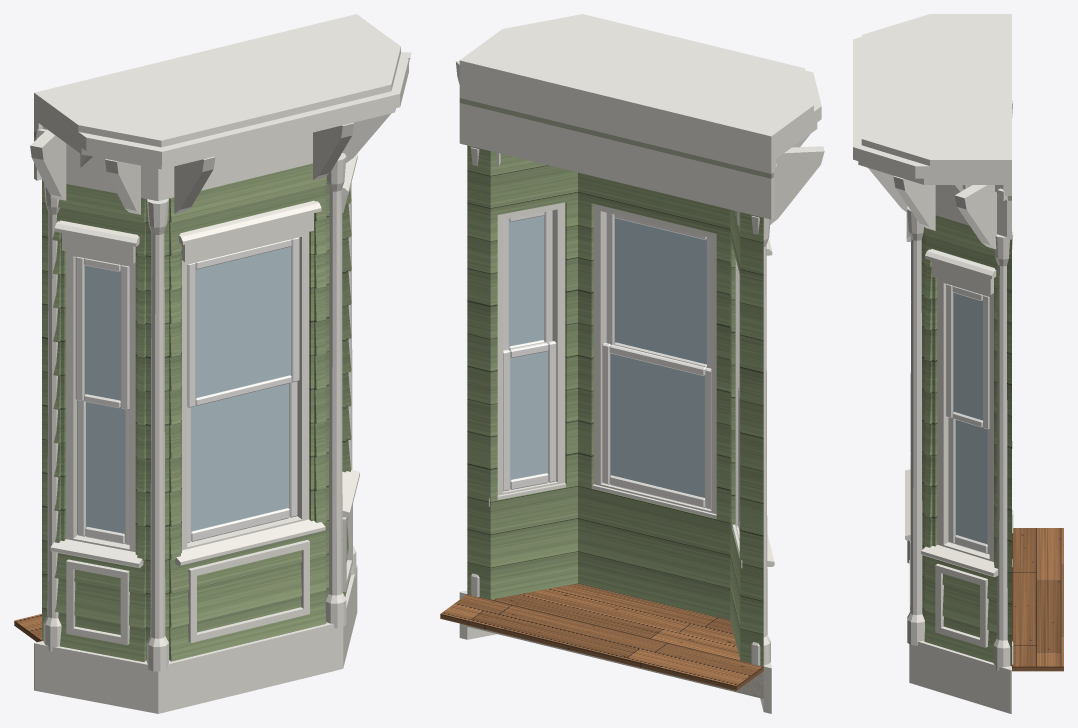
The model's file is bay_u_b.glb.
3 renders of one model, left to right at view 1: azimuth 30°, elevation 25°; view 2: azimuth 150°, elevation 25°; view 3: azimuth 270°, elevation 25°, orthographic. The views are drawn at different scales.
Parts seen in each view (by area): view 1: bay_u_b_trim, bay_u_b_siding_b, bay_u_b_glass, bay_u_b_sash, bay_u_b_frame; view 2: bay_u_b_siding_b, bay_u_b_trim, bay_u_b_glass, bay_u_b_floor, bay_u_b_frame, bay_u_b_sash, bay_u_b_acc_b, bay_u_b_plaster; view 3: bay_u_b_trim, bay_u_b_siding_b, bay_u_b_floor, bay_u_b_glass, bay_u_b_frame, bay_u_b_sash.
Part boxes in pixels (x1,y1,x2,y2): bay_u_b_trim: (30, 14, 411, 713); bay_u_b_siding_b: (42, 152, 351, 661); bay_u_b_glass: (84, 246, 290, 533); bay_u_b_sash: (75, 237, 299, 545); bay_u_b_frame: (65, 213, 342, 551); bay_u_b_siding_b: (467, 145, 763, 666); bay_u_b_trim: (455, 14, 824, 713); bay_u_b_glass: (509, 215, 706, 497); bay_u_b_floor: (440, 583, 763, 690); bay_u_b_frame: (497, 202, 739, 540); bay_u_b_sash: (503, 210, 739, 530); bay_u_b_acc_b: (459, 98, 773, 178); bay_u_b_plaster: (467, 625, 763, 698); bay_u_b_trim: (853, 14, 1013, 713); bay_u_b_siding_b: (921, 215, 1011, 666); bay_u_b_floor: (1012, 528, 1063, 671); bay_u_b_glass: (953, 292, 987, 544); bay_u_b_frame: (937, 278, 993, 561); bay_u_b_sash: (946, 283, 989, 554).
Bounding box in the file's own units: 2.37 × 3.54 × 1.22.
Materials: 8 (3 with a texture image).
